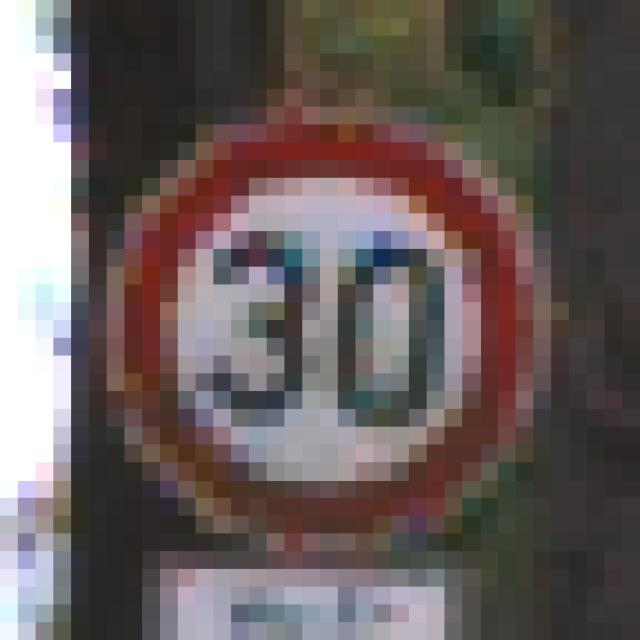Speed Limit -30-: (80, 80, 542, 542)
